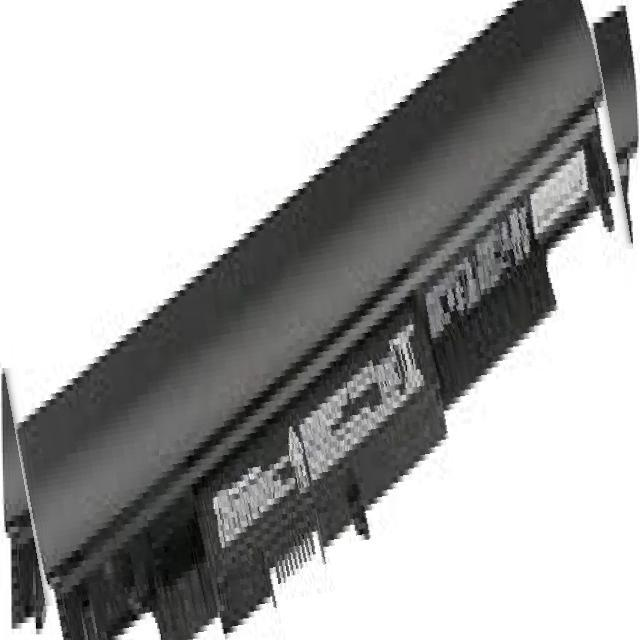Battery: (19, 6, 617, 640)
